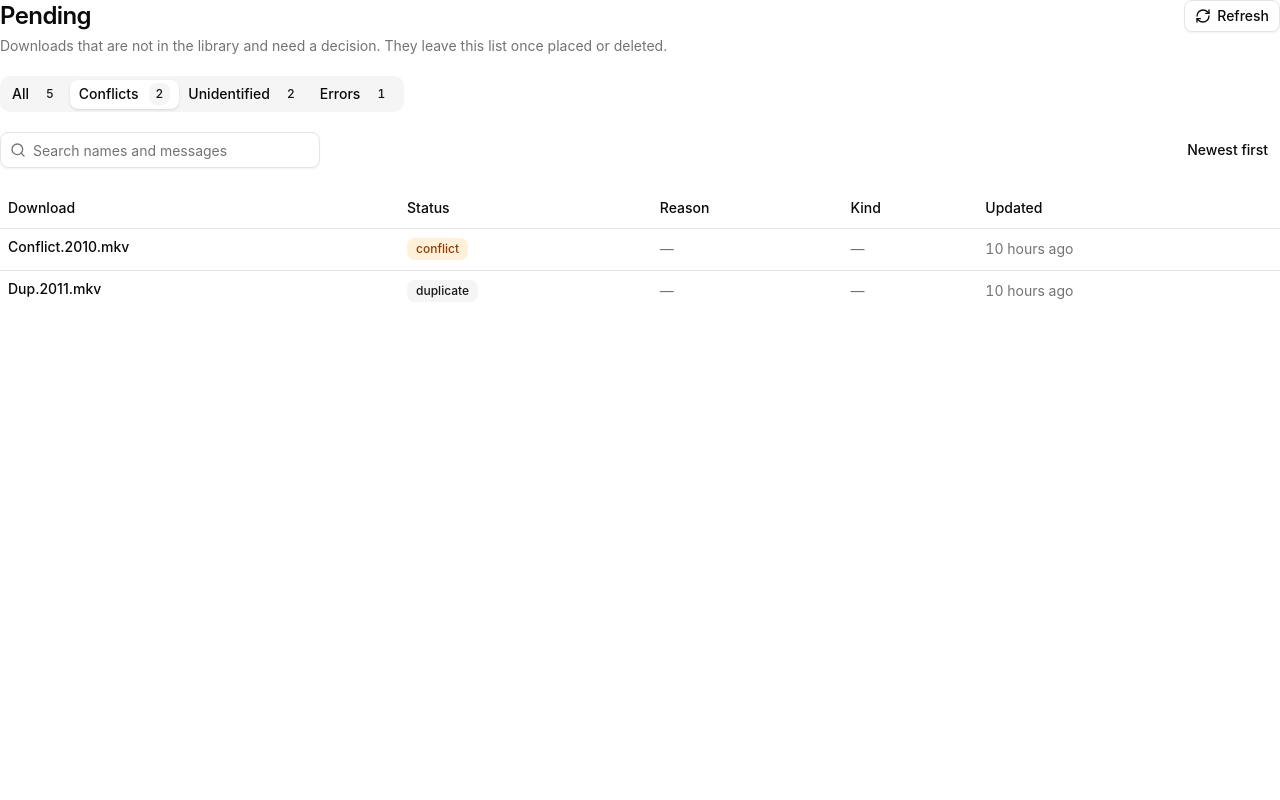
Scenario: Pending › opens the details with commands that hold no token
Click the button "Conflict.2010.mkv" at (69, 246), box [8,236,129,256]
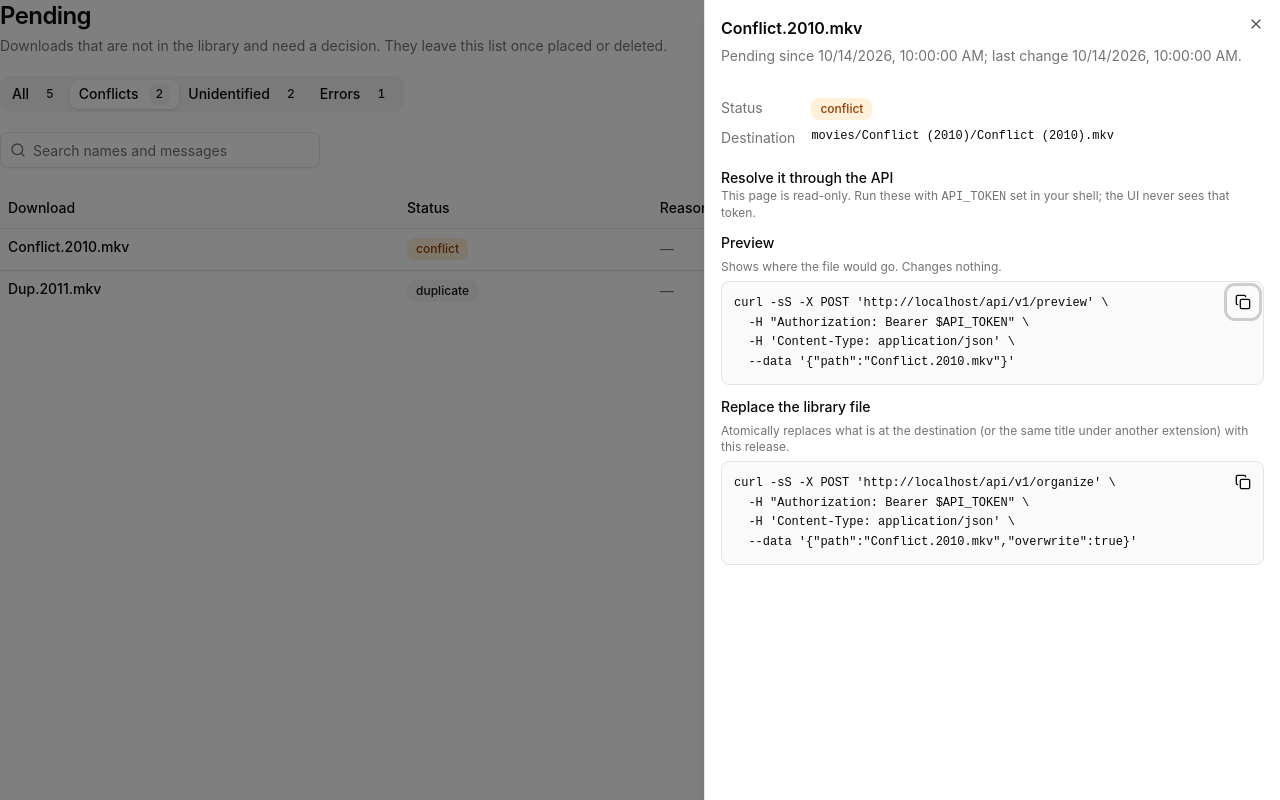
Now the text "Replace the library file" is shown, box [721,398,870,415]
Now the dialog shows "$API_TOKEN", box [734,296,1108,368]
